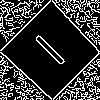I: (25, 25, 68, 68)
